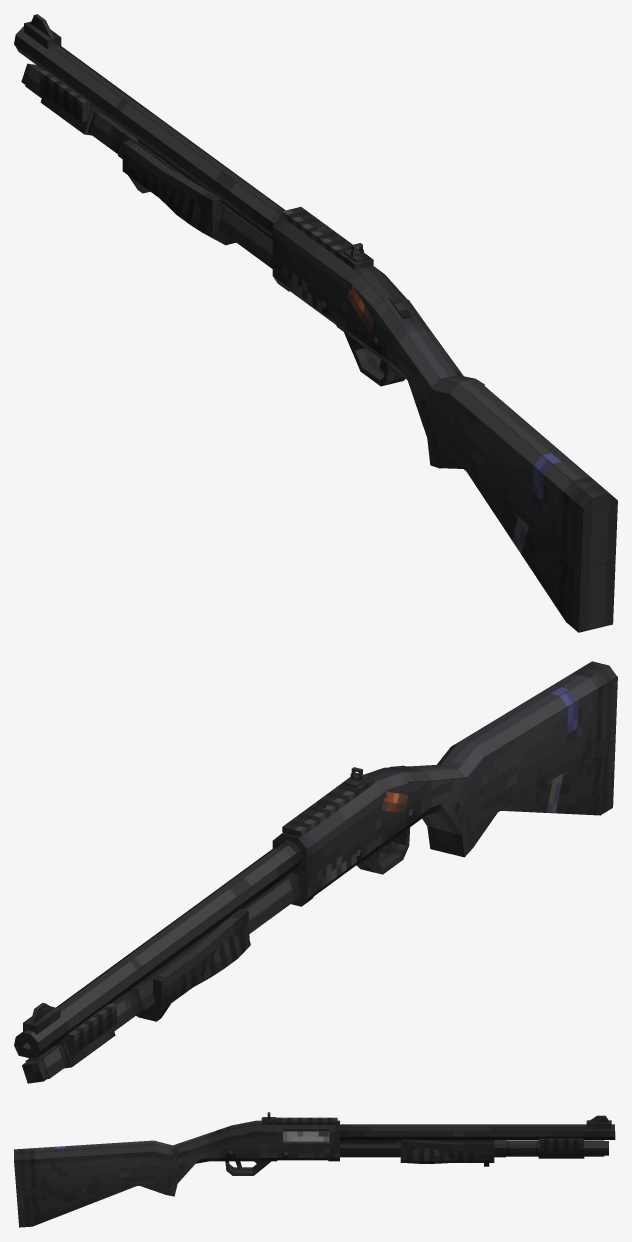
3 renders of one model, top to bottom at view 1: azimuth 30°, elevation 25°; view 2: azimuth 150°, elevation 25°; view 3: azimuth 270°, elevation 25°, orthographic. The views are drawn at different scales.
Parts seen in each view (by area): view 1: gun_77, pump_22; view 2: gun_77, pump_22, ironsights_4; view 3: gun_77, pump_22, action_1, ironsights_4.
Part boxes in pixels (left/top/right/bottom): gun_77: left=14, top=26, right=617, bottom=632; pump_22: left=122, top=140, right=235, bottom=245; gun_77: left=14, top=661, right=617, bottom=1083; pump_22: left=136, top=908, right=250, bottom=1021; ironsights_4: left=23, top=1002, right=60, bottom=1034; gun_77: left=14, top=1117, right=615, bottom=1227; pump_22: left=400, top=1139, right=494, bottom=1166; action_1: left=283, top=1131, right=328, bottom=1141; ironsights_4: left=586, top=1115, right=611, bottom=1128.
Size of the model in its own units: 0.3438 by 1.45 by 7.25.
